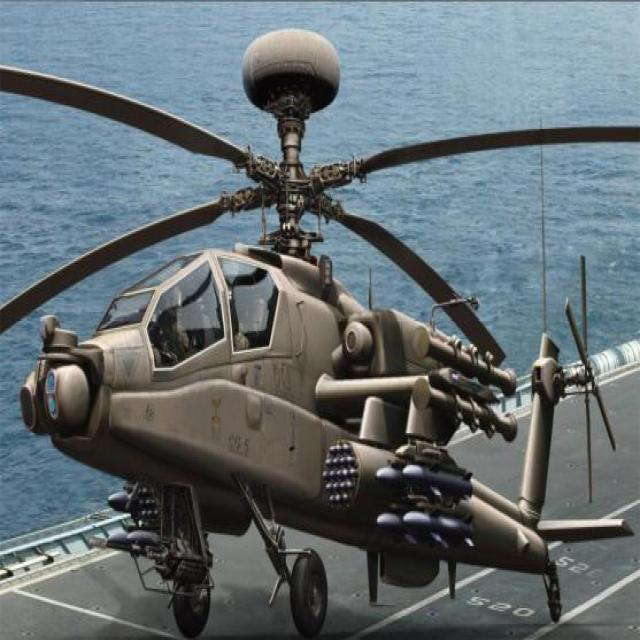MIL_HELO: (0, 31, 640, 634)
